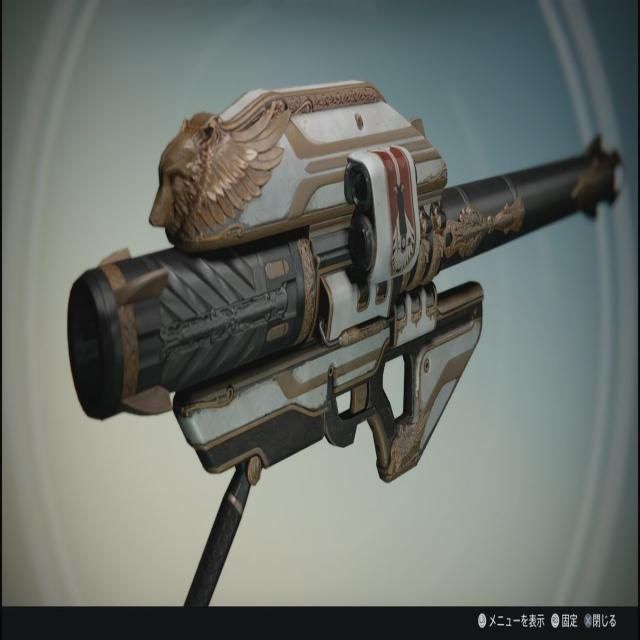bazooka: (35, 72, 638, 512)
